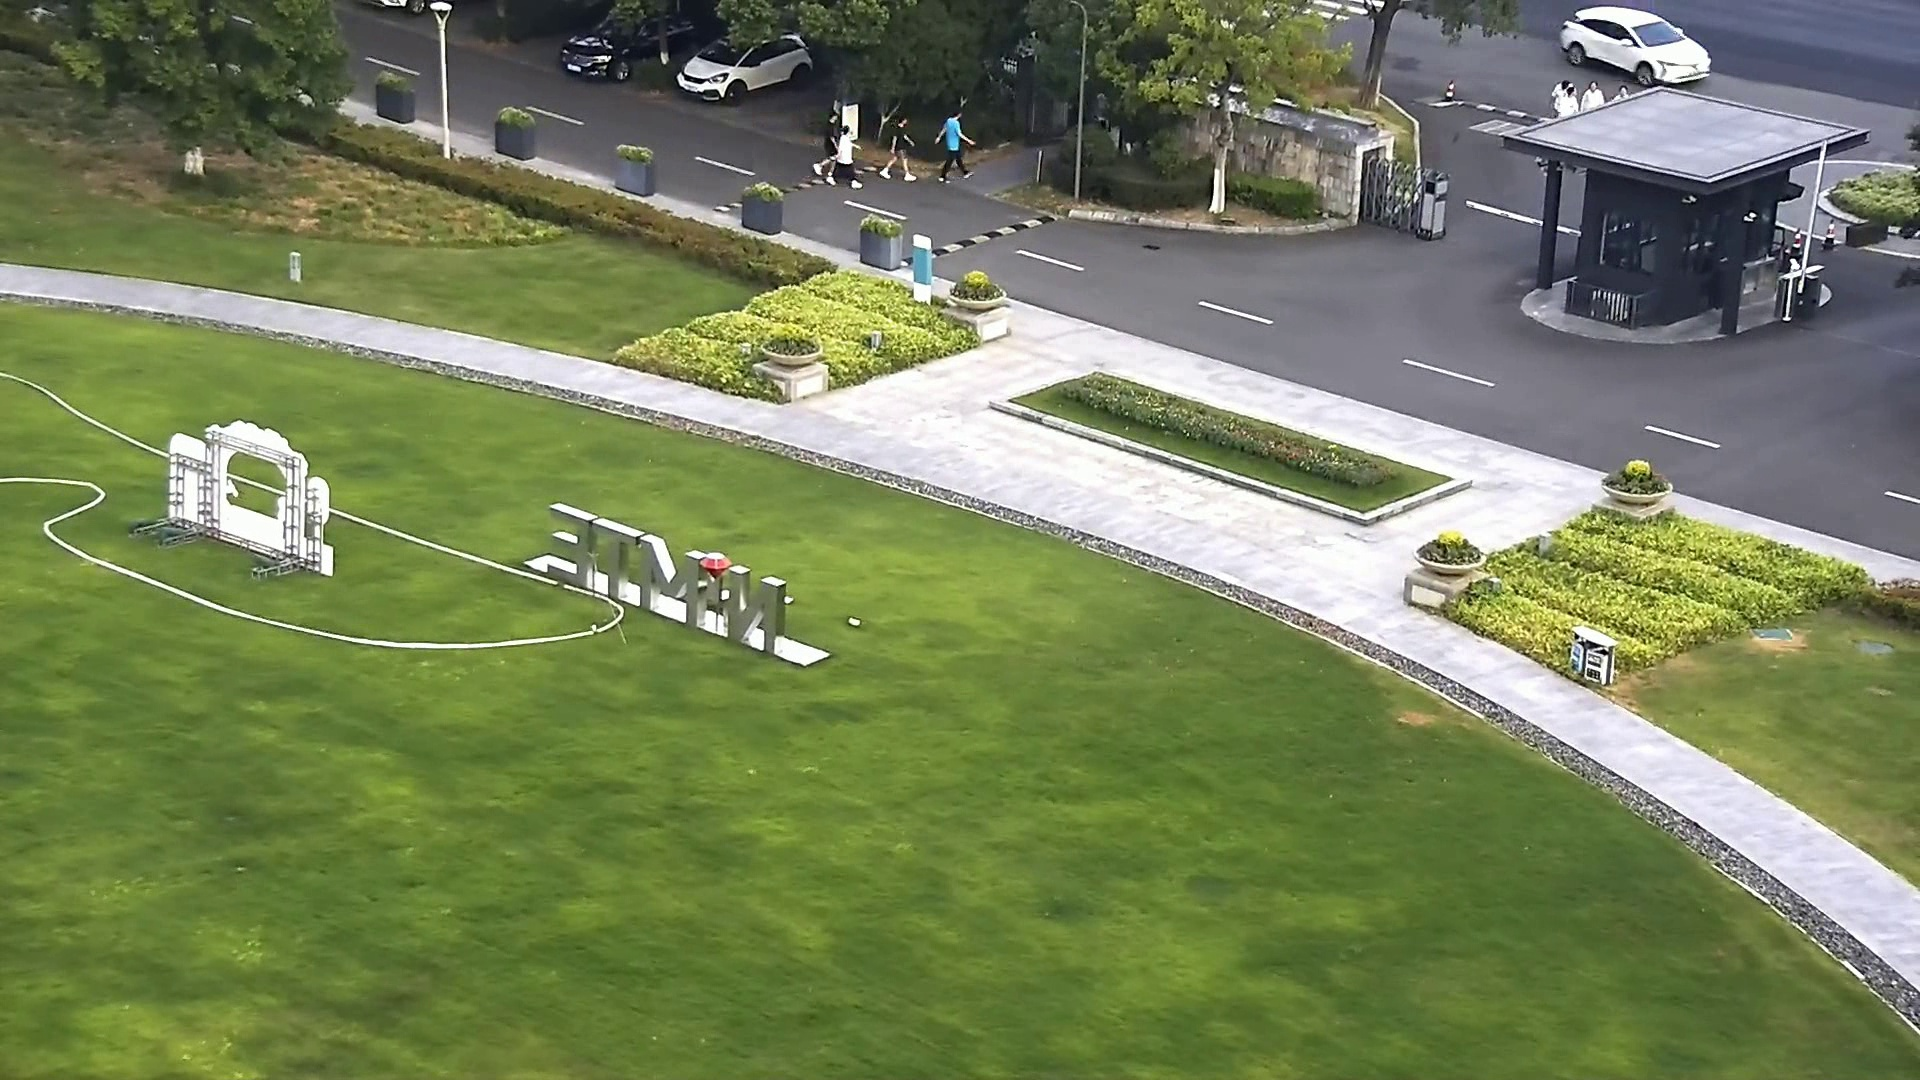person: (933, 109, 976, 183), (877, 115, 918, 181), (826, 123, 863, 189), (813, 111, 844, 184), (1580, 79, 1605, 112), (1557, 82, 1579, 117)
